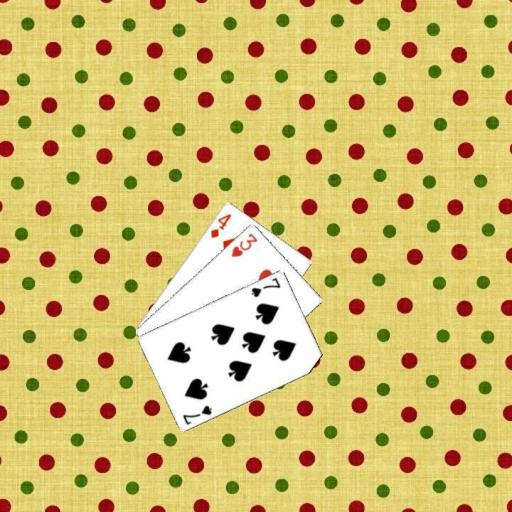card-corner: (228, 230, 259, 258), (248, 274, 282, 298), (180, 402, 214, 426), (207, 210, 232, 240)
